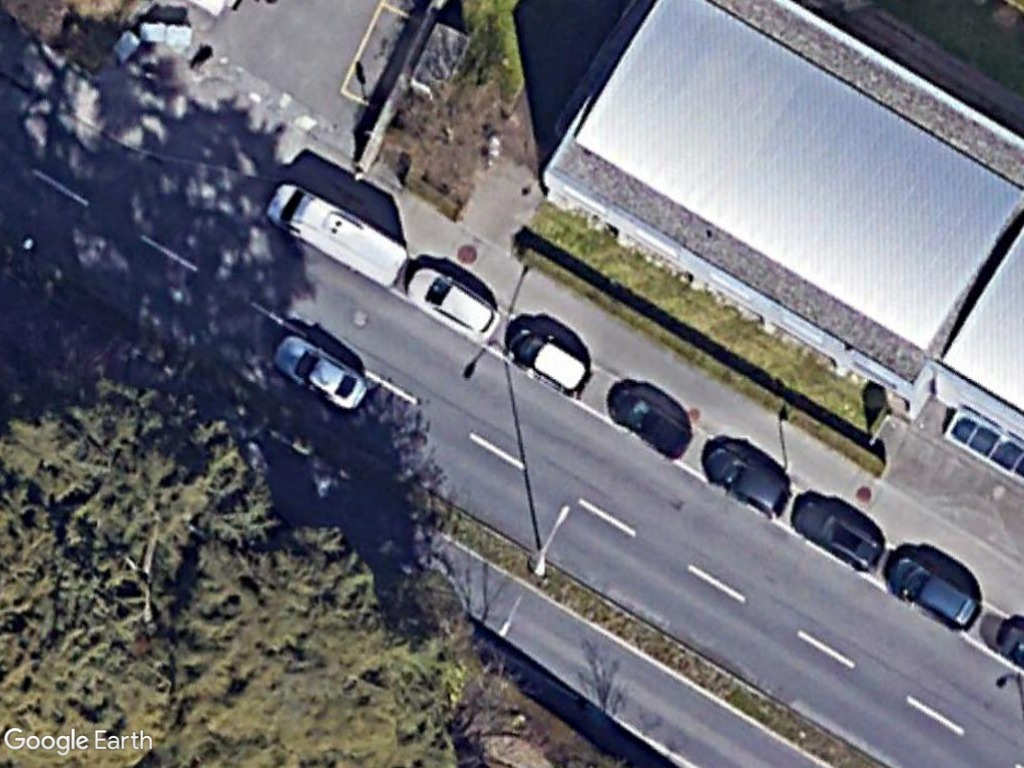car: (883, 547, 980, 640), (790, 491, 888, 579), (270, 330, 371, 415), (698, 432, 794, 521), (404, 260, 499, 346), (606, 385, 697, 464), (504, 321, 594, 397)
van: (269, 180, 410, 289)
